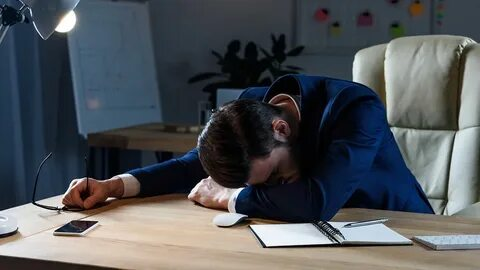sleep: (132, 73, 391, 222)
